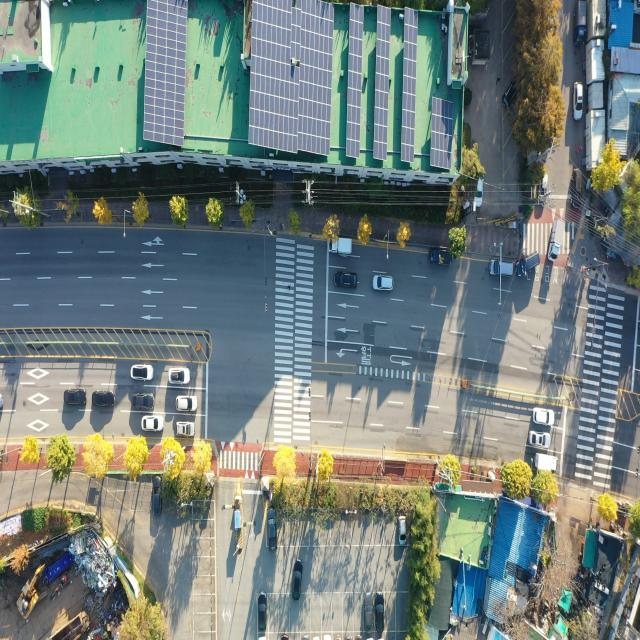car: (515, 252, 540, 281), (500, 79, 520, 109), (151, 472, 162, 516), (488, 261, 514, 279), (65, 387, 86, 408), (374, 592, 385, 632), (363, 591, 373, 635), (572, 168, 582, 212), (473, 172, 484, 209), (535, 173, 548, 204), (374, 274, 395, 292), (528, 430, 550, 447), (93, 391, 116, 407), (336, 272, 358, 288), (258, 593, 267, 632), (293, 561, 302, 599), (267, 508, 275, 550), (132, 364, 154, 379), (142, 416, 162, 432), (169, 369, 189, 385), (533, 410, 553, 426), (397, 515, 407, 547), (574, 84, 582, 120), (177, 395, 196, 410), (176, 422, 195, 437), (134, 394, 154, 408)
small_truck: (547, 218, 566, 268), (572, 0, 588, 46), (535, 451, 560, 470), (330, 237, 354, 256), (428, 248, 452, 266)
